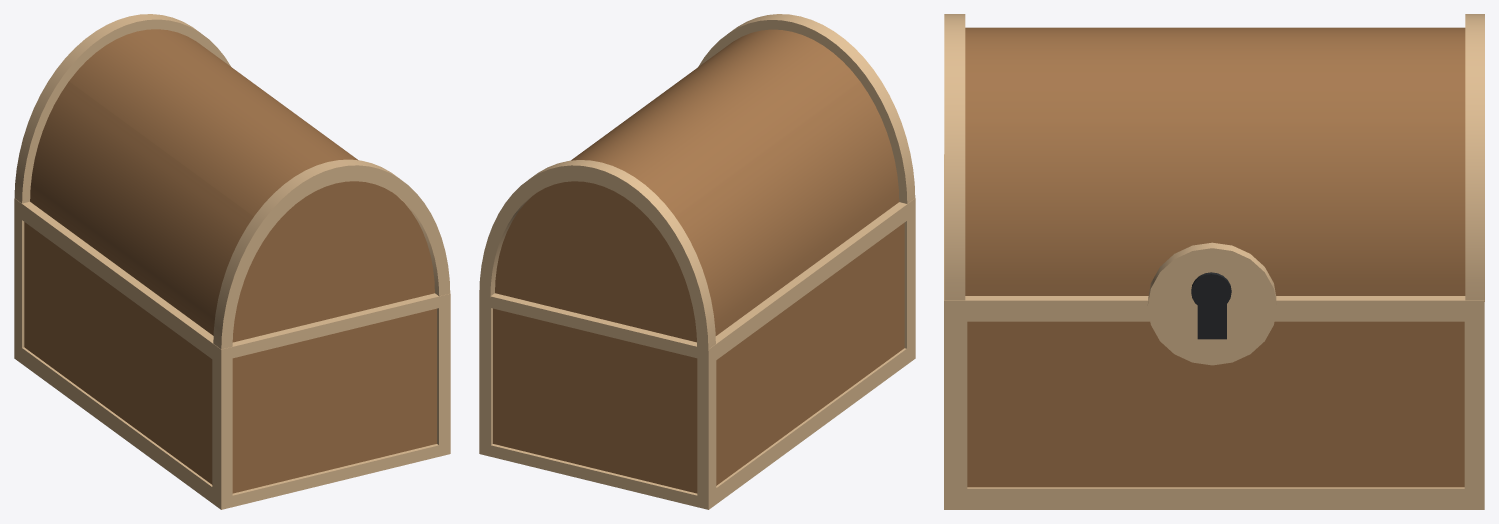
The model's file is Chest.fbx.
3 renders of one model, left to right at view 1: azimuth 30°, elevation 25°; view 2: azimuth 150°, elevation 25°; view 3: azimuth 270°, elevation 25°, orthographic. The views are drawn at different scales.
Parts seen in each view (by area): view 1: obj_0; view 2: obj_0; view 3: obj_0.
Boxes of the visible parts, box(x1,y1,x2,y2) form: obj_0: box(14, 14, 450, 509); obj_0: box(479, 14, 915, 509); obj_0: box(944, 14, 1484, 509).
Size of the model in its own units: 58.14 by 73.46 by 87.77.
